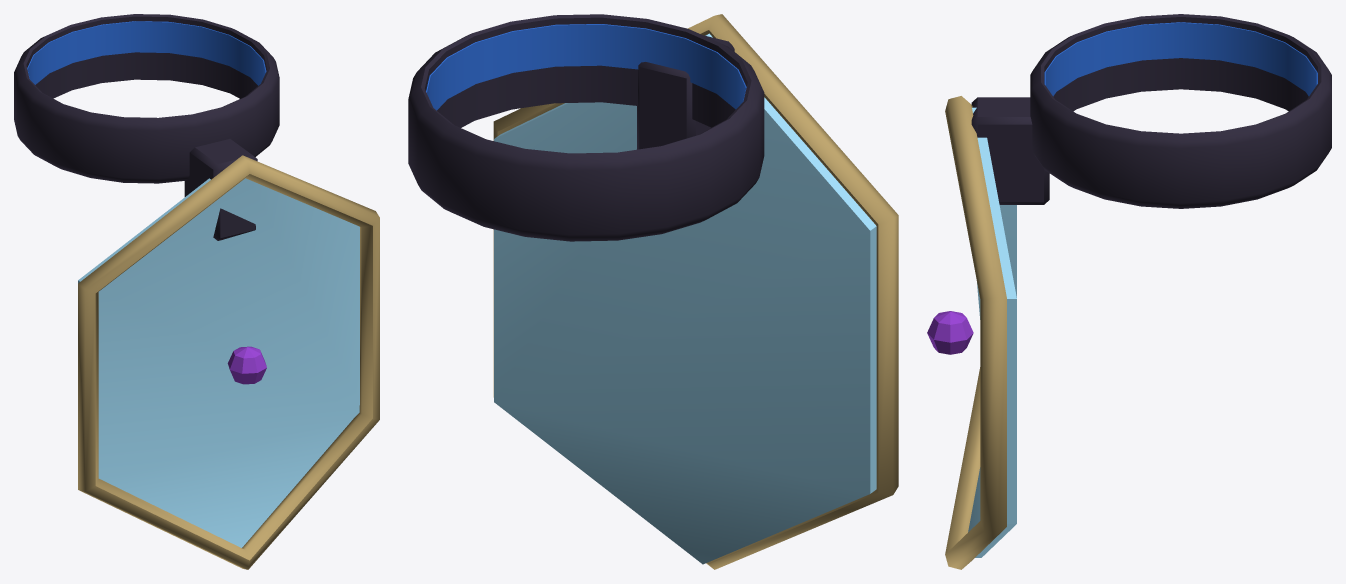
Rendered from Kit_Deco_LeagueShield_S.glb.
3 renders of one model, left to right at view 1: azimuth 30°, elevation 25°; view 2: azimuth 150°, elevation 25°; view 3: azimuth 270°, elevation 25°, orthographic. The views are drawn at different scales.
Visible parts, largest first — view 1: Kit_Deco_LeagueShield_S; view 2: Kit_Deco_LeagueShield_S; view 3: Kit_Deco_LeagueShield_S.
Boxes of the visible parts, x1,y1,x2,y2 form: Kit_Deco_LeagueShield_S: (14, 14, 379, 569); Kit_Deco_LeagueShield_S: (408, 14, 898, 569); Kit_Deco_LeagueShield_S: (927, 14, 1331, 569).
Size of the model in its own units: 0.2027 by 0.2813 by 0.208.
